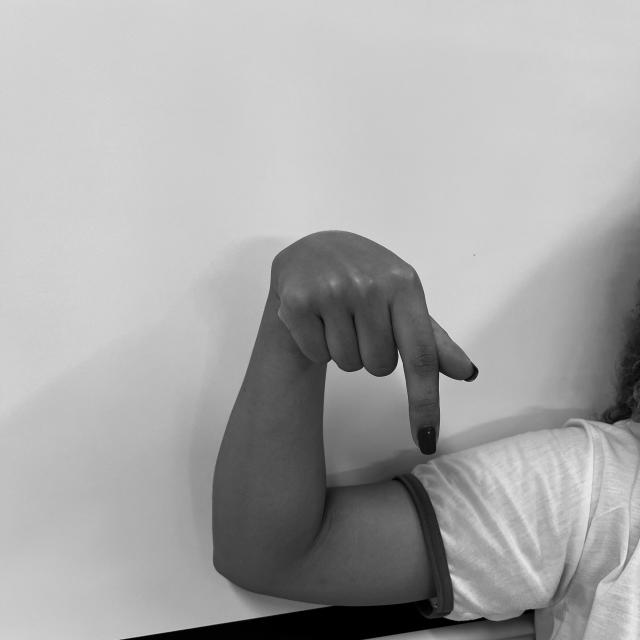Letra Q: (258, 225, 486, 457)
